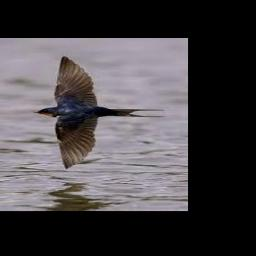Swallow: (35, 56, 167, 169)
